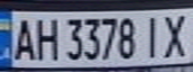3: (60, 15, 84, 61), (81, 15, 103, 61)
7: (100, 15, 121, 60)
8: (115, 14, 142, 61)
A: (9, 15, 39, 62)
H: (30, 14, 60, 62)
I: (139, 12, 166, 60)
X: (157, 10, 193, 58)
